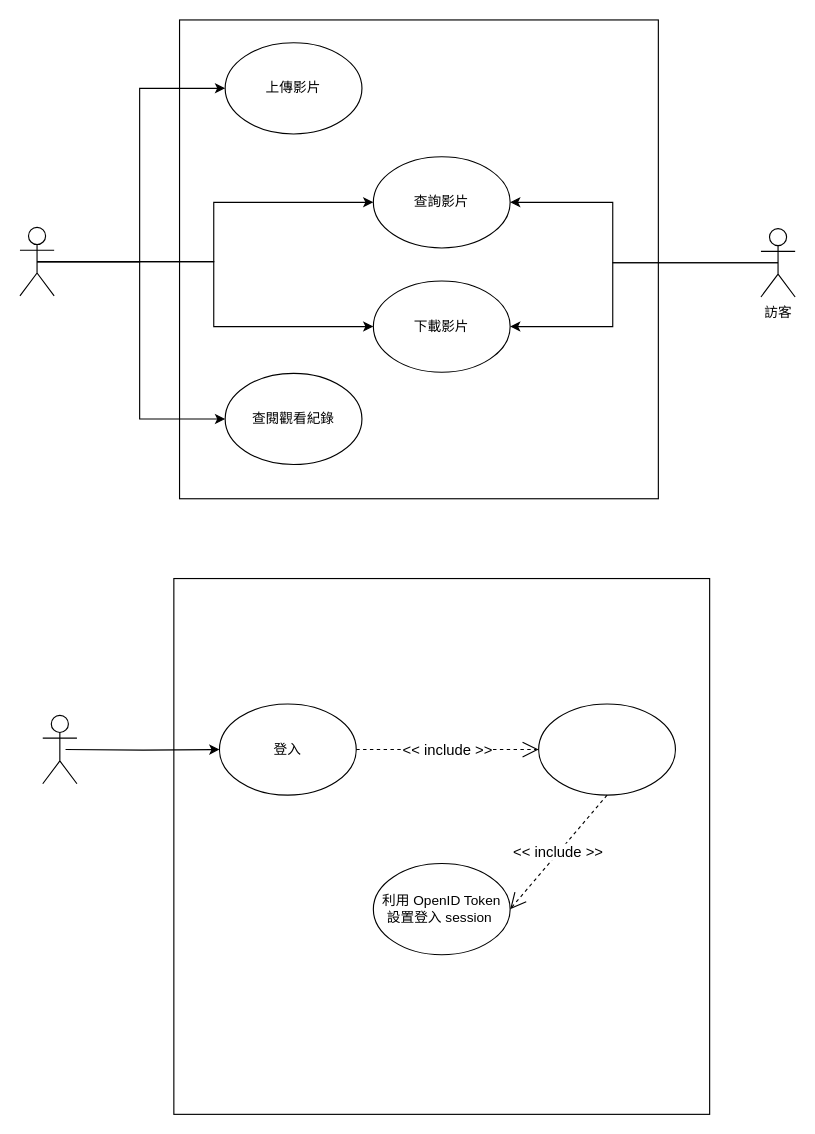
The diagram is 815 pixels wide and 1134 high, and some of its shapes have lost their labels. The box of each missing label's shape, as (x1, y1, x2, y2) in pixels:
串接 NCU Portal OCID 驗證: (538, 703, 675, 795)
使用者: (42, 714, 77, 784)
會員: (19, 226, 54, 296)
